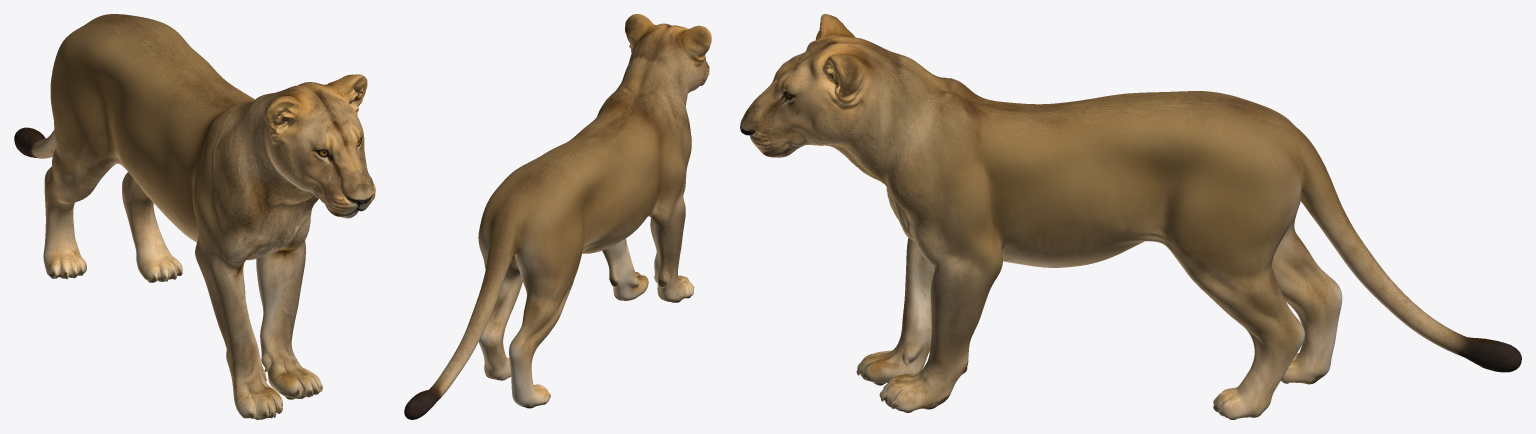
The model's file is loewin_original.glb.
3 renders of one model, left to right at view 1: azimuth 30°, elevation 25°; view 2: azimuth 150°, elevation 25°; view 3: azimuth 270°, elevation 25°, orthographic. The views are drawn at different scales.
Size of the model in its own units: 0.3666 by 0.9705 by 1.9.
Materials: 1 (1 with a texture image).
